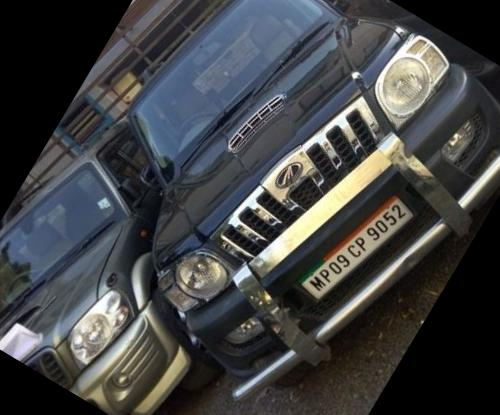plate: (279, 147, 452, 334)
